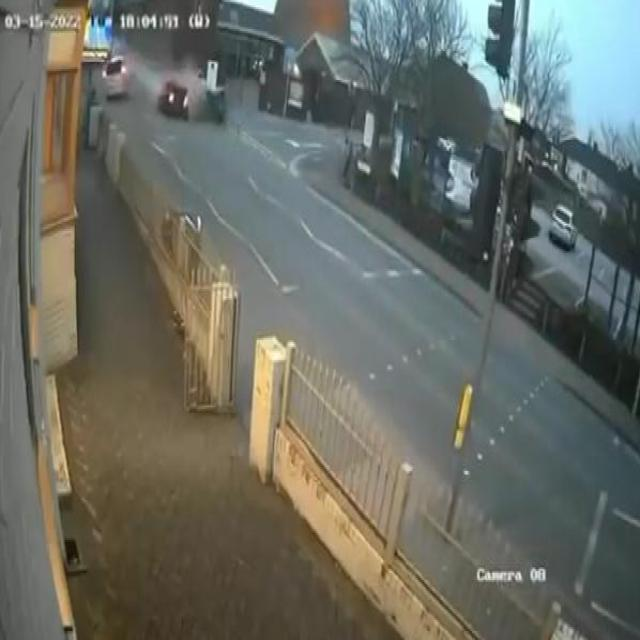accident: (142, 56, 236, 144)
